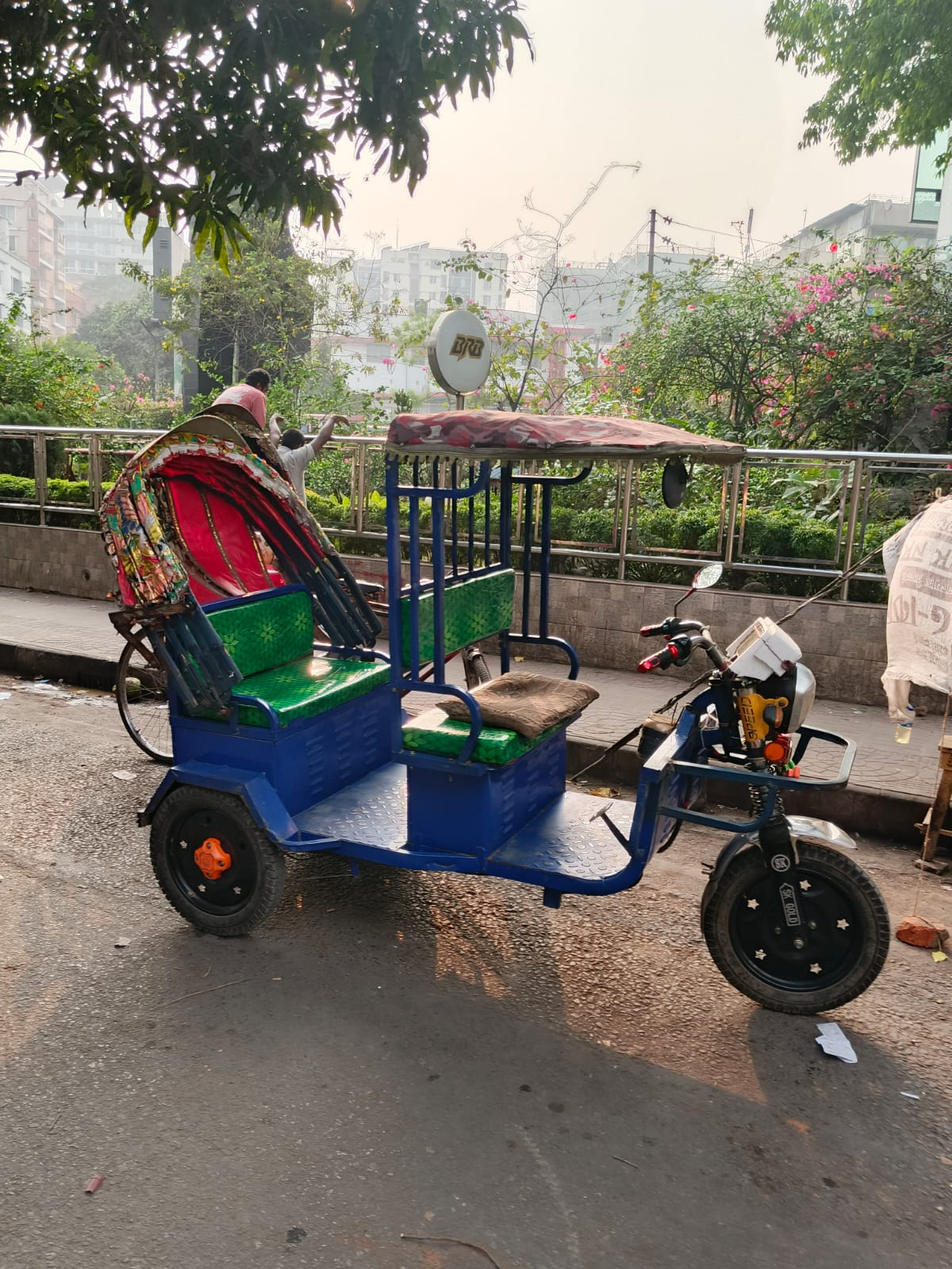auto-ricksaw: (42, 352, 952, 1043)
